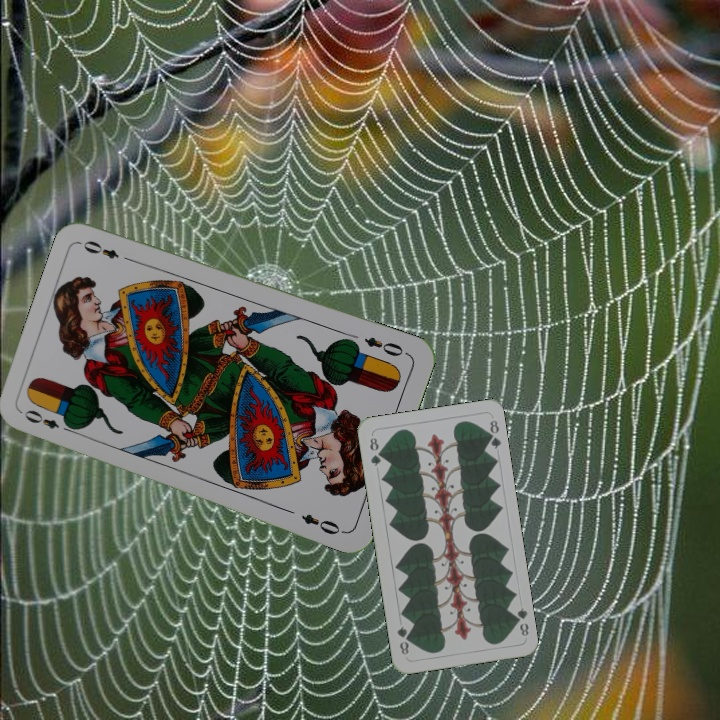EO: (20, 406, 77, 436), (360, 332, 411, 359)
G8: (510, 604, 531, 638), (366, 433, 384, 469)
